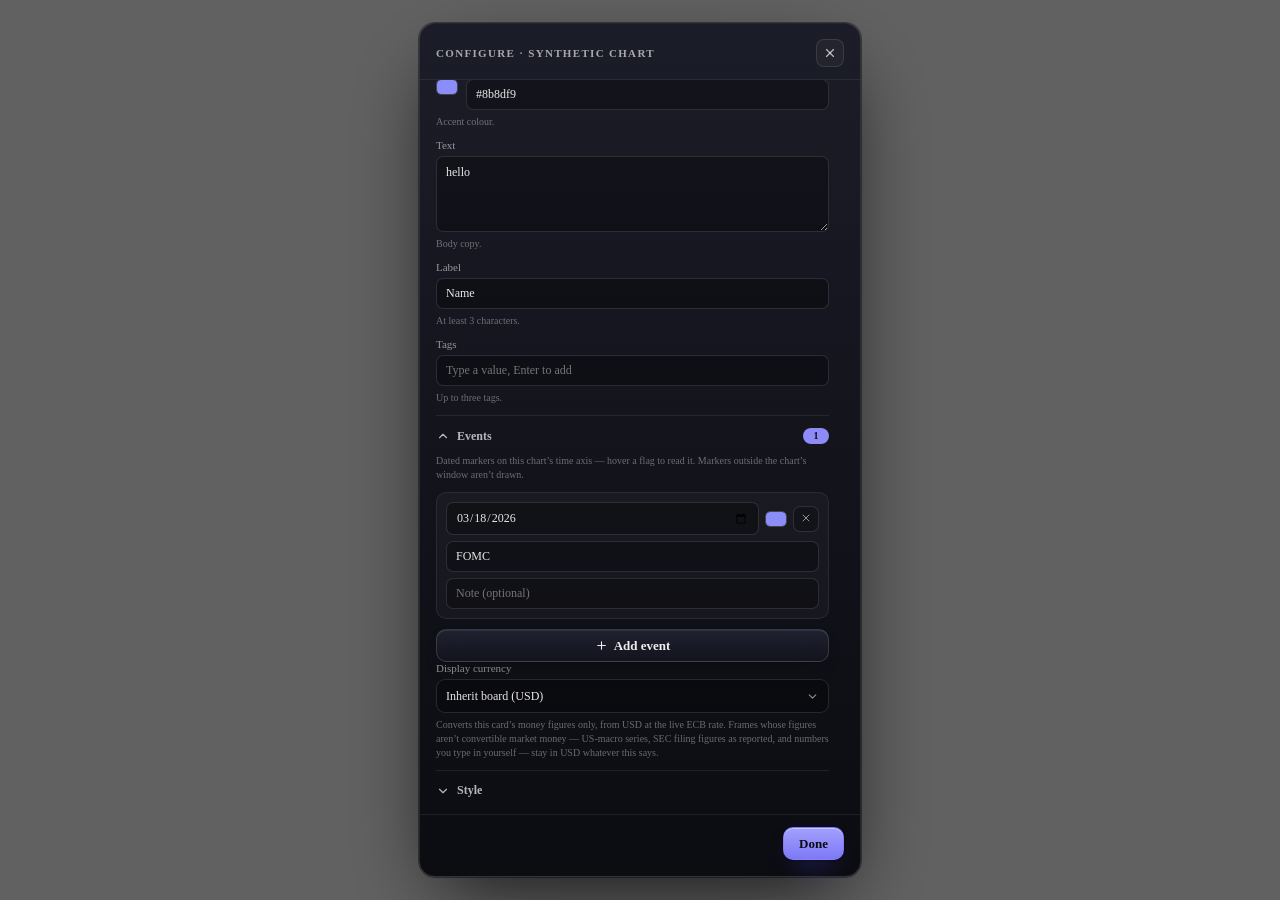
Test case: FrameConfigDialog events validation › Esc and the ✕ revert an invalid marker instead of closing over it
The image size is (1280, 900).
(page scrolled)
Clear the field named "Event 1 label": {"x": 632, "y": 556} left=446, top=541, right=819, bottom=572
Wait 200 ms
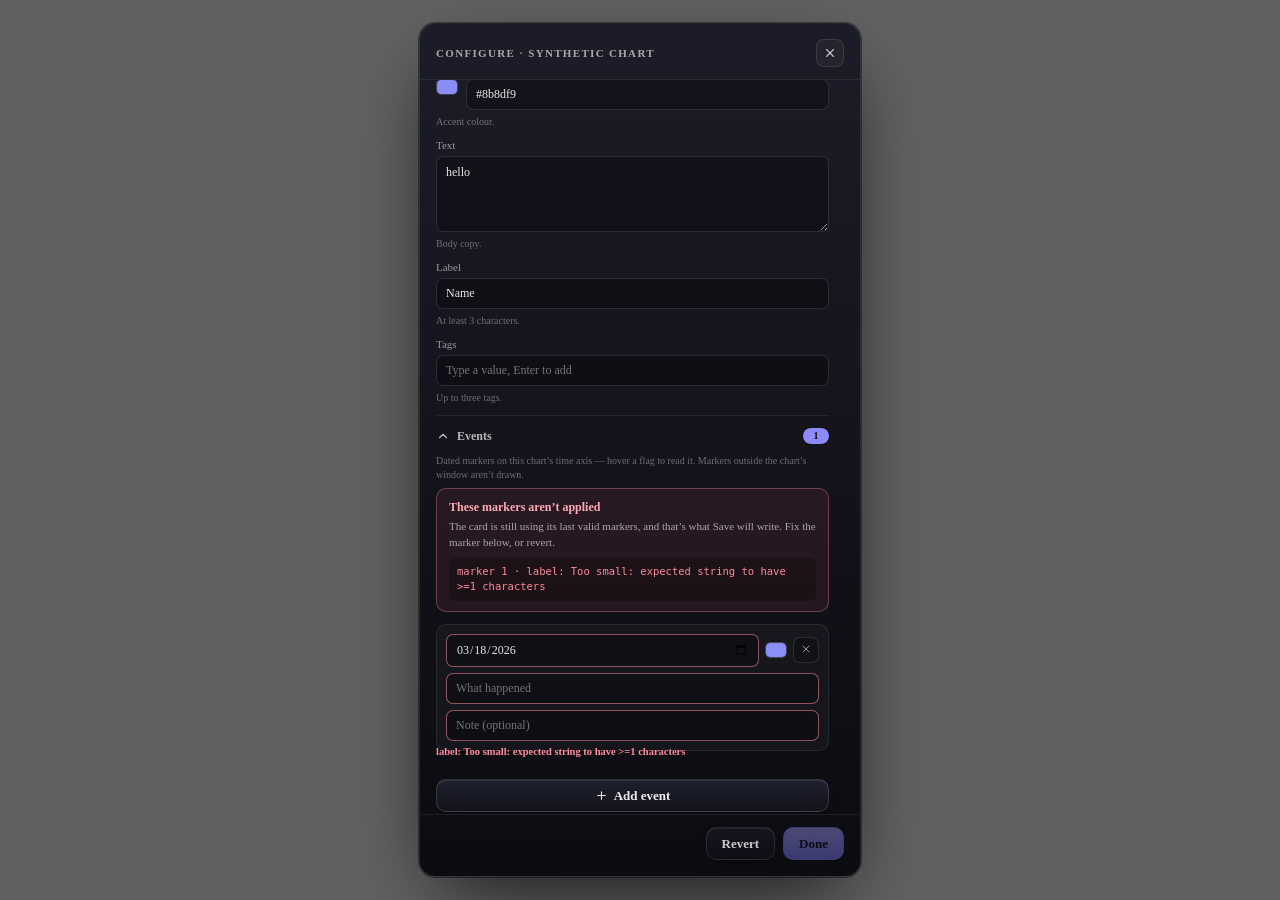
Press Escape
Wait 200 ms
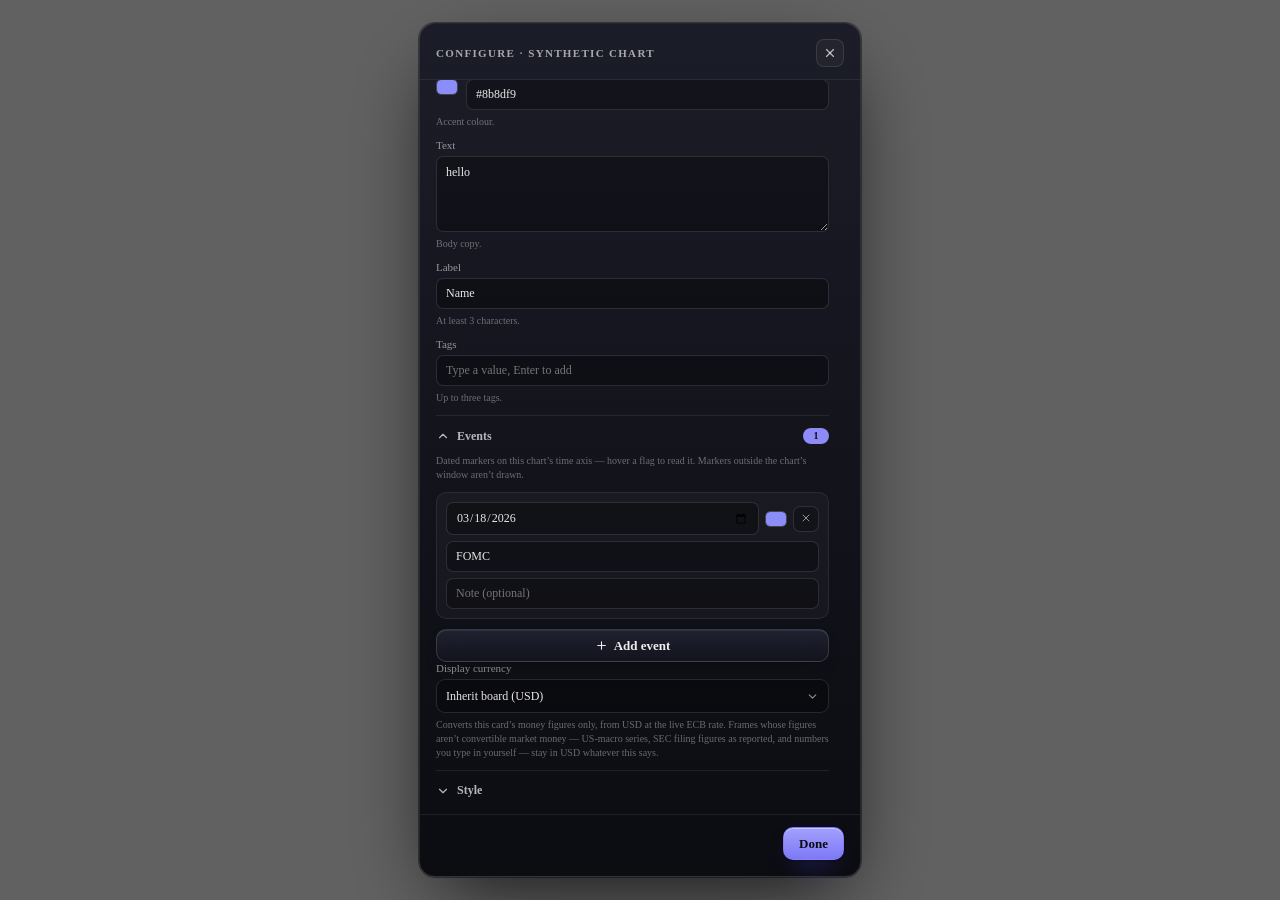
Expected: the field named "Event 1 label" holds "FOMC"
Clear the field named "Event 1 label": {"x": 632, "y": 556} left=446, top=541, right=819, bottom=572
Wait 200 ms
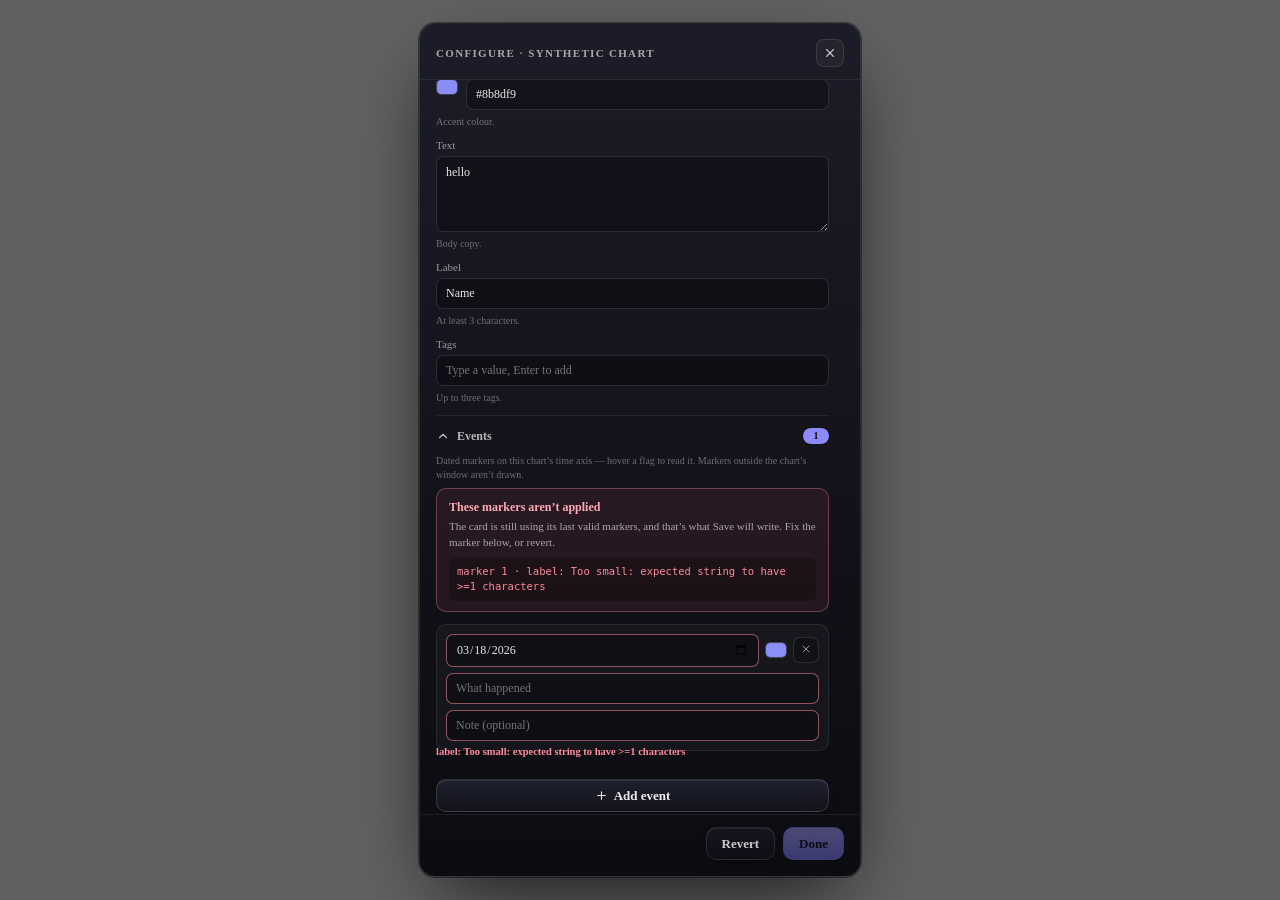
Click the button named "Close": {"x": 830, "y": 53} left=816, top=39, right=844, bottom=67
Wait 200 ms
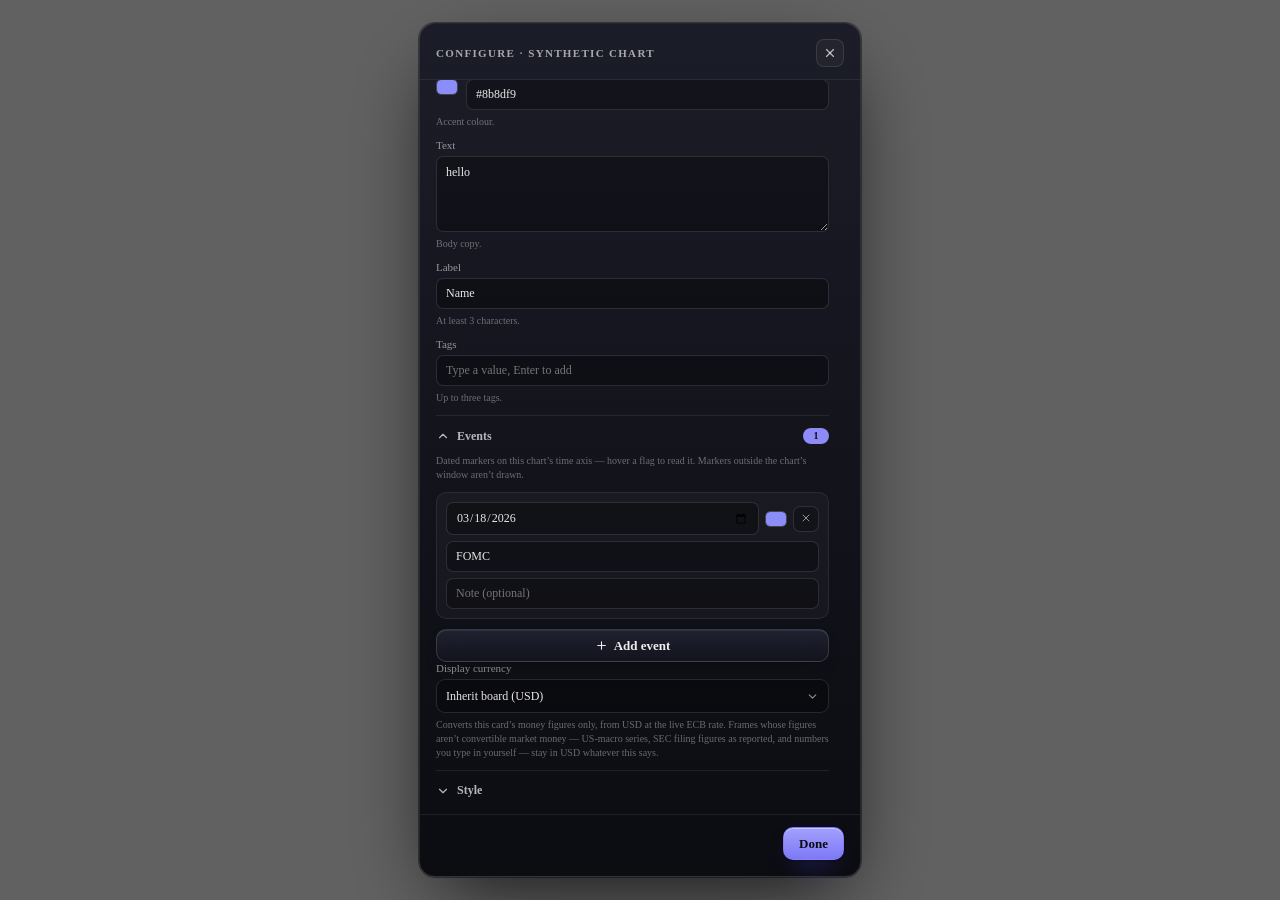
Expected: the field named "Event 1 label" holds "FOMC", left=446, top=541, right=819, bottom=572
